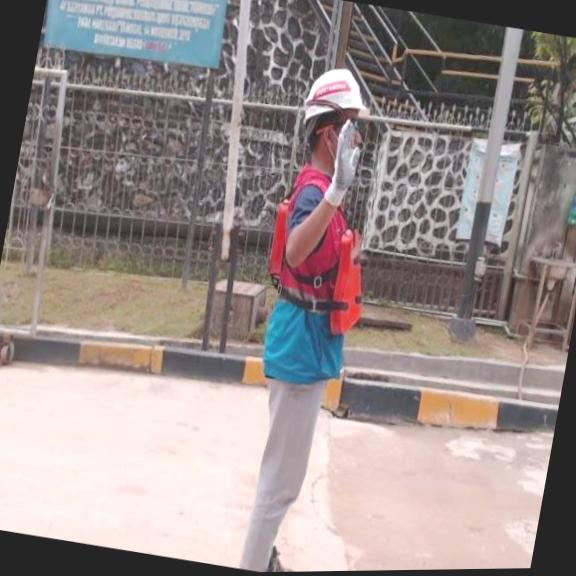safety_vest: (252, 188, 380, 342)
